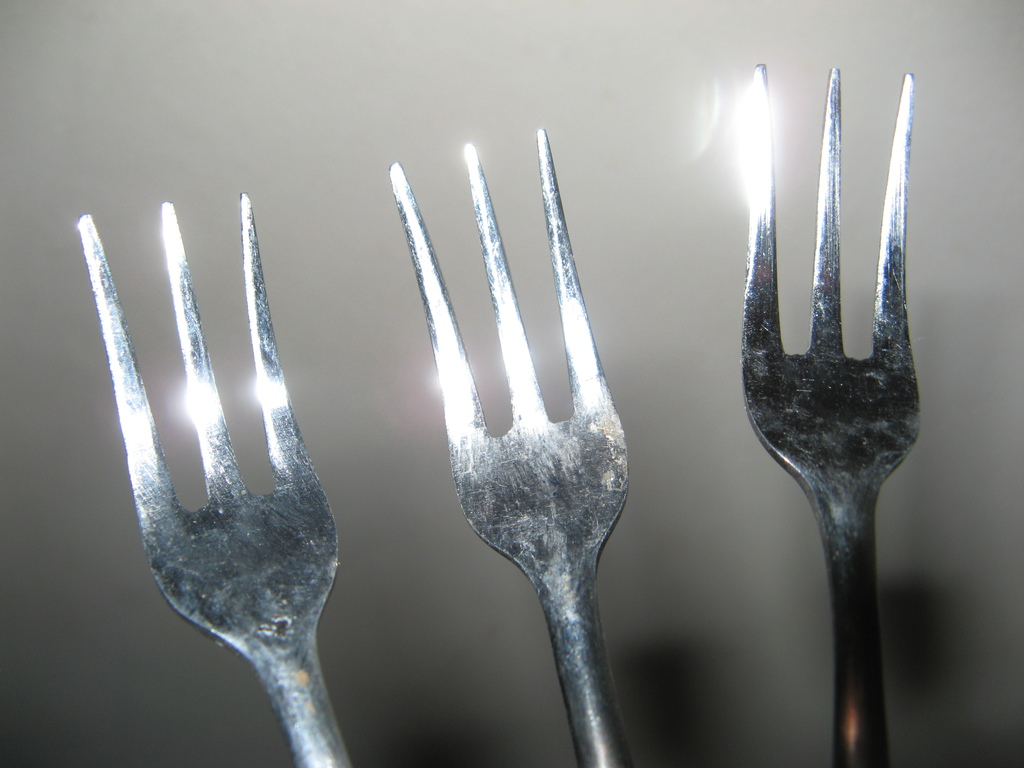fork: (741, 62, 921, 767)
